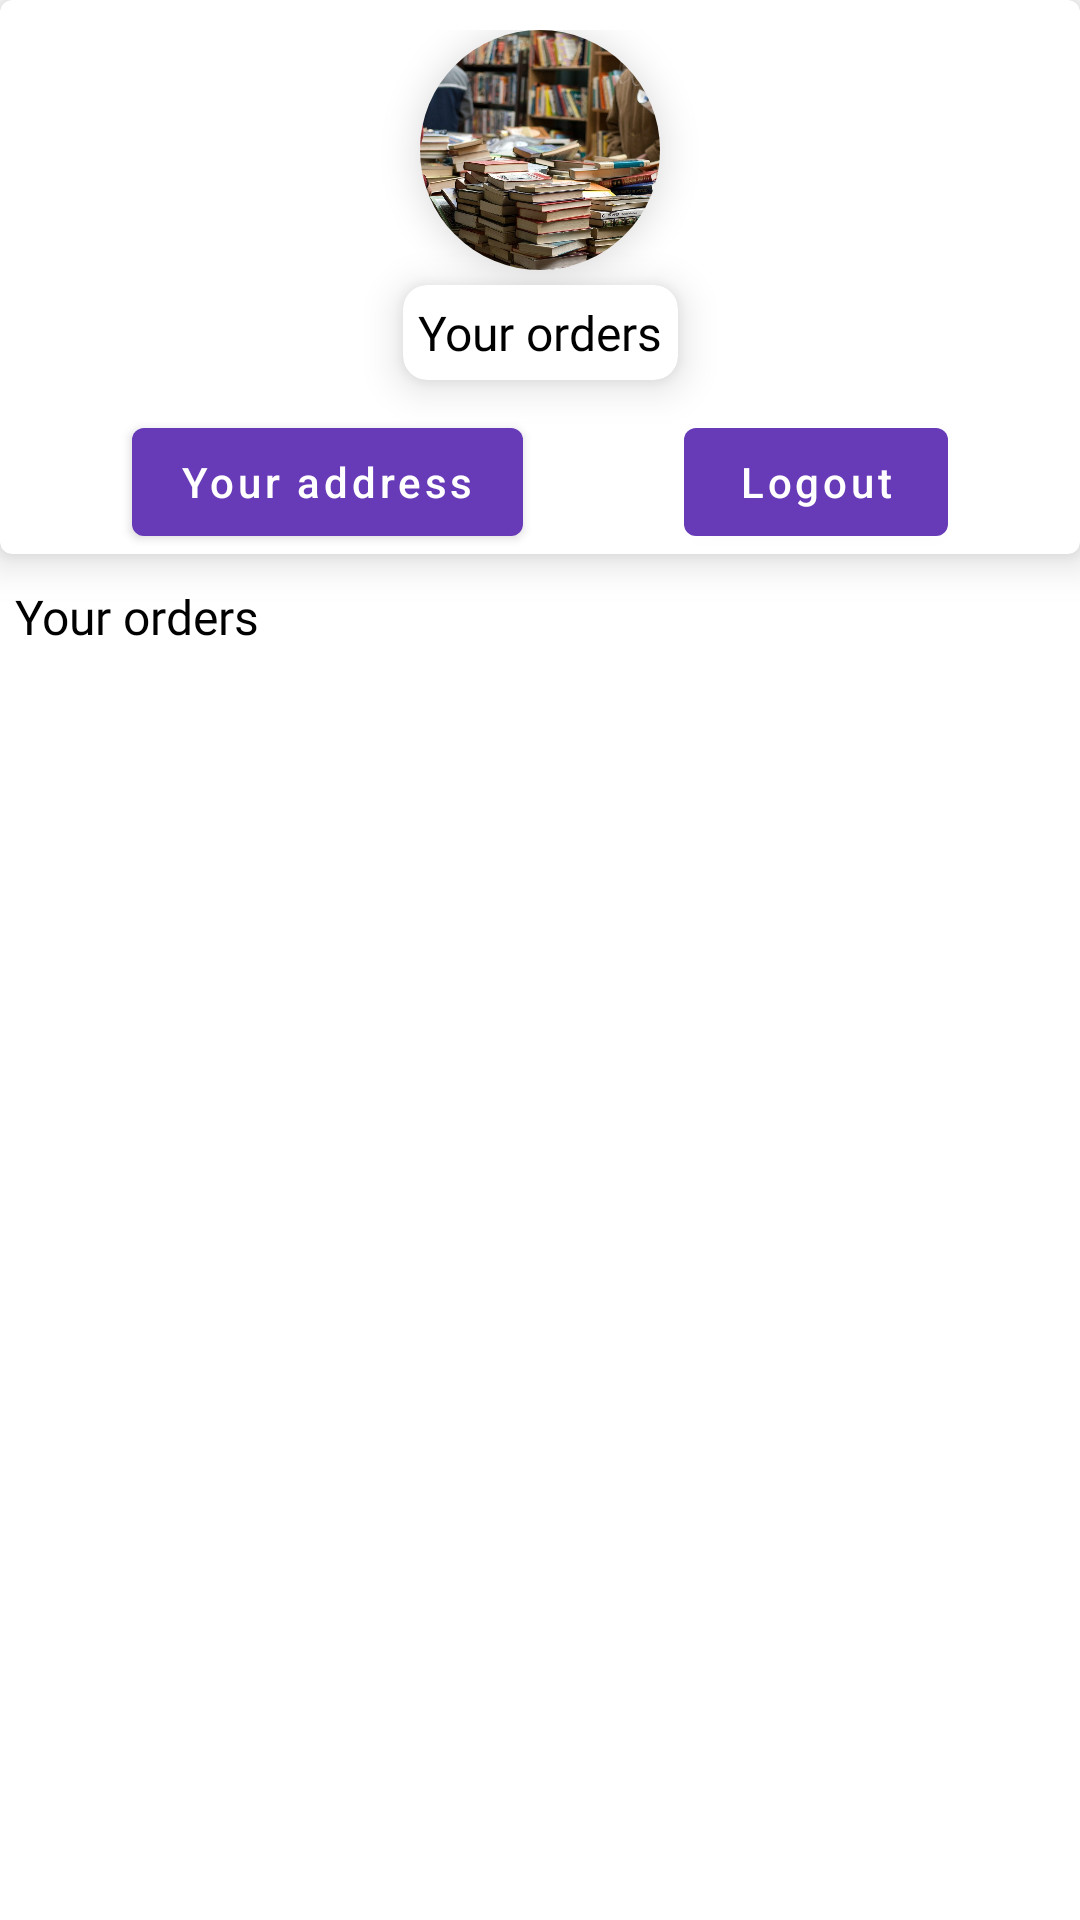

Icons on this 1080 × 1920 Android screen, each with the point to tap as point (x, y):
books coverimg: point (540, 150)
